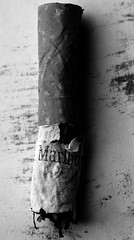cigarette: (27, 1, 95, 239)
